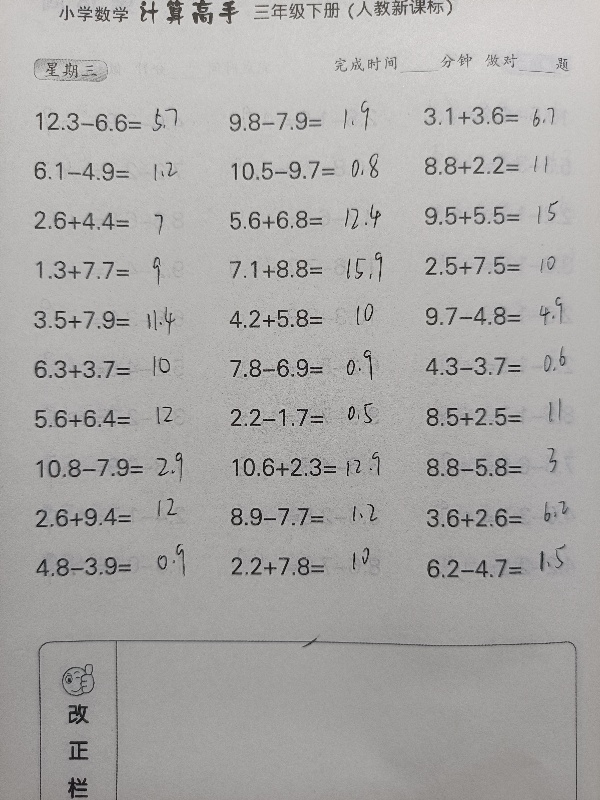equation: (223, 445, 403, 484), (418, 551, 598, 586), (223, 549, 403, 584), (27, 499, 207, 534), (221, 202, 401, 237), (415, 98, 595, 133), (27, 549, 207, 583), (418, 501, 598, 535), (222, 500, 402, 534), (27, 450, 207, 484), (418, 450, 598, 484), (27, 402, 207, 436), (418, 400, 598, 434), (26, 352, 206, 386), (222, 351, 402, 385), (417, 349, 597, 383), (26, 303, 206, 337), (221, 302, 401, 336), (417, 299, 597, 333), (29, 253, 209, 287), (221, 252, 401, 286), (417, 249, 597, 283), (26, 204, 206, 238), (416, 199, 596, 233), (222, 154, 402, 188), (25, 154, 205, 188), (416, 149, 596, 183), (220, 105, 400, 139), (27, 105, 207, 139), (222, 401, 402, 434)
